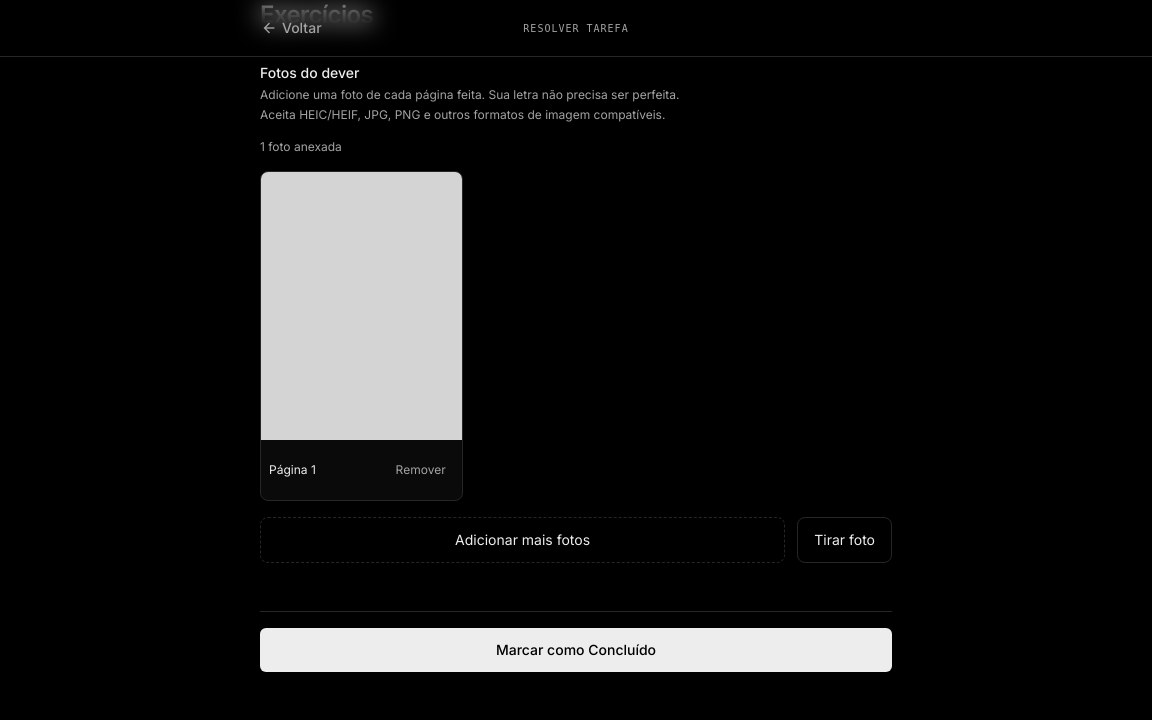
completion with multiple pages › rejects a malformed success response without awarding completion
Earlier steps of the test are not shown.
(page scrolled)
Click the button "Marcar como Concluído". click: click(576, 650)
box: [260,628,892,672]
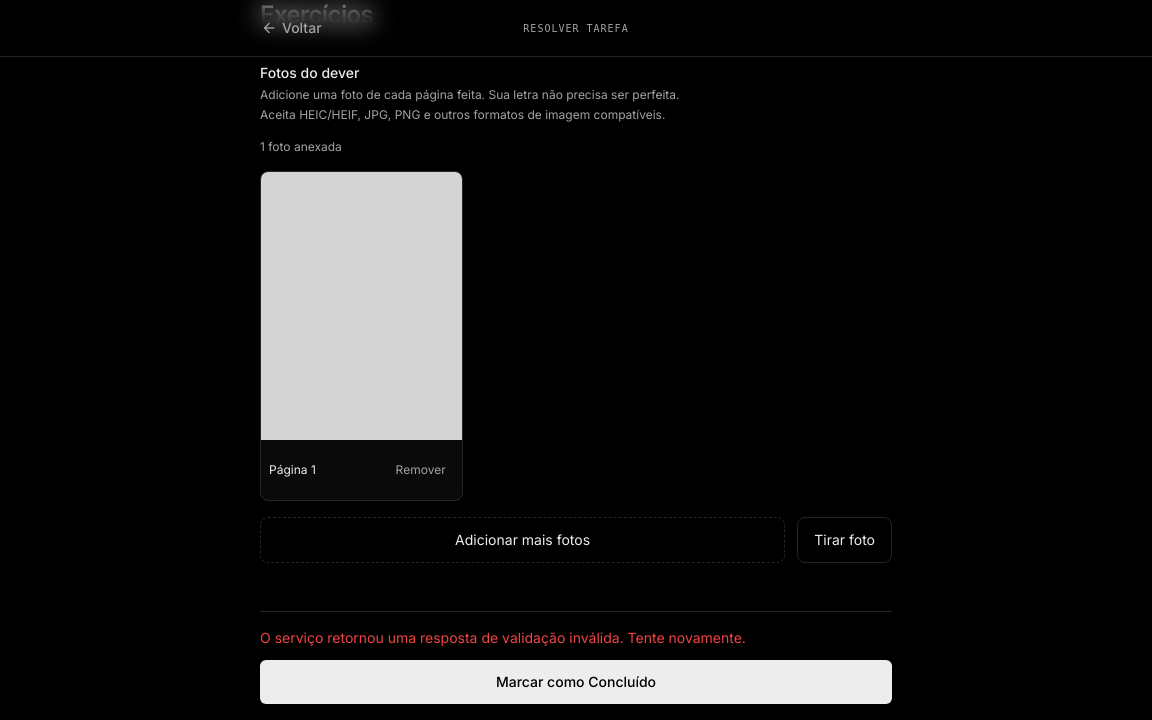
Now the message shows "resposta de validação inválida", box [260,628,746,646]
